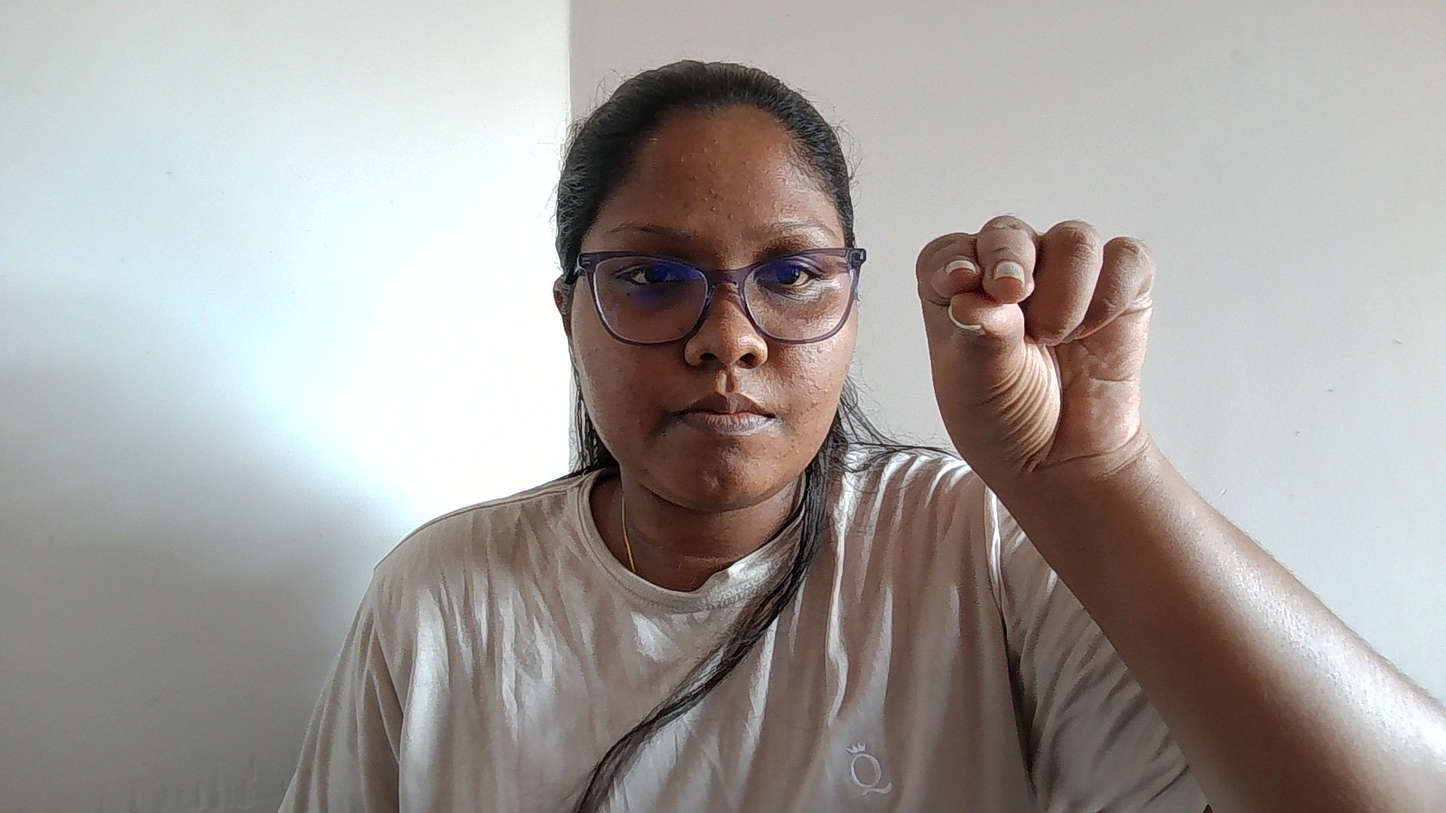No: (913, 104, 1307, 579)
